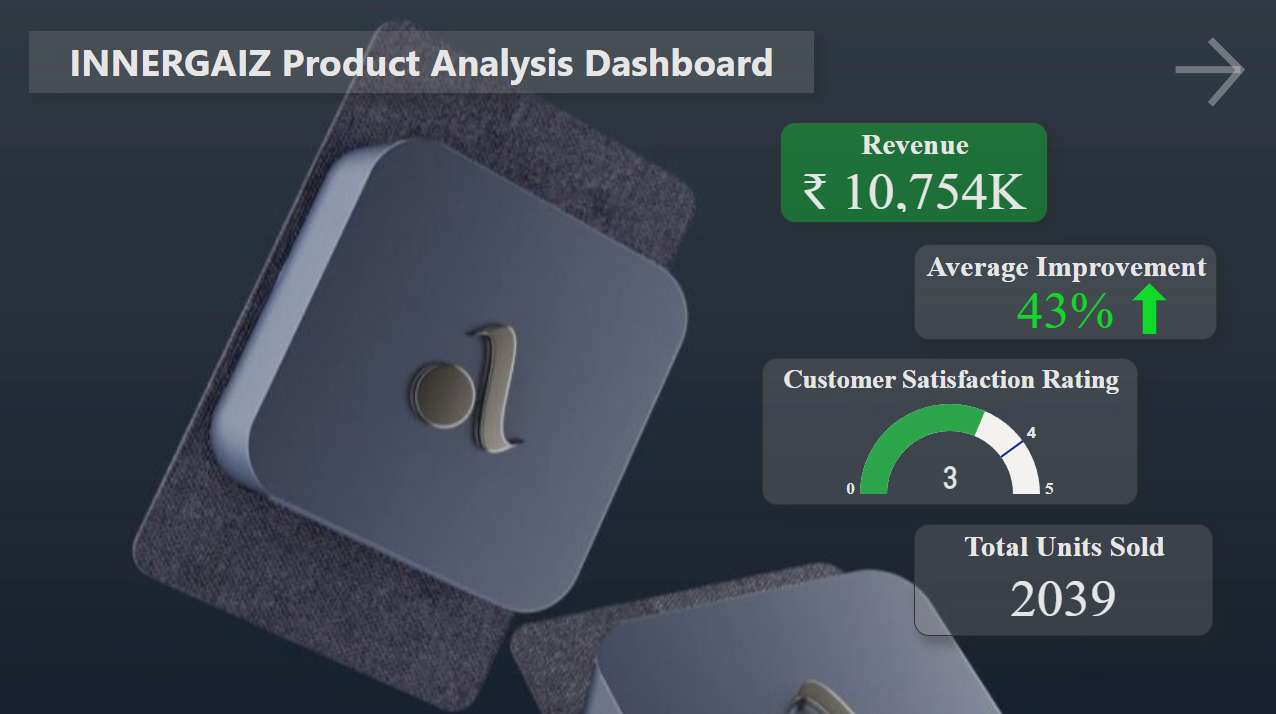

This screenshot's page, from the dashboard's own definition file:
{"tool":"powerbi","page":{"name":"Page 1","canvas":[1280,720],"ordinal":0},"visuals":[{"type":"card","title":"Total Units Sold","fields":{"Values":["Sum(Sheet1.Units Sold)"]},"box":[915.1,526.1,298.4,112.1],"z":0},{"type":"card","title":"Revenue","fields":{"Values":["Sum(Sheet1.Revenuee)"]},"box":[781.5,124.2,267.4,100.9],"z":1000},{"type":"textbox","box":[30.2,32.8,784.9,62.1],"z":2000},{"type":"actionButton","box":[1168,33,104,82],"z":3000},{"type":"gauge","title":"Customer Satisfaction Rating","fields":{"Y":["Avg(Sheet1.Customer Satisfaction Rating (1-5))"]},"box":[763.3,359.7,376.1,147.5],"z":4000},{"type":"card","title":"Average Improvement","fields":{"Values":["Sheet1.avg_pct_imp"]},"box":[915.1,245.8,302.7,95.7],"z":5000},{"type":"shape","box":[1132.5,284.6,35.4,50.9],"z":6000}]}

Visuals, with their boxes in screenshot pixels (x1, y1, x2, y2), scaled from the page's 1280x720 canvas onto the 1276x714 screenshot:
"Total Units Sold" card: [912,522,1210,633]
"Revenue" card: [779,123,1046,223]
textbox: [30,33,813,94]
actionButton: [1164,33,1268,114]
"Customer Satisfaction Rating" gauge: [761,357,1136,503]
"Average Improvement" card: [912,244,1214,339]
shape: [1129,282,1164,333]
